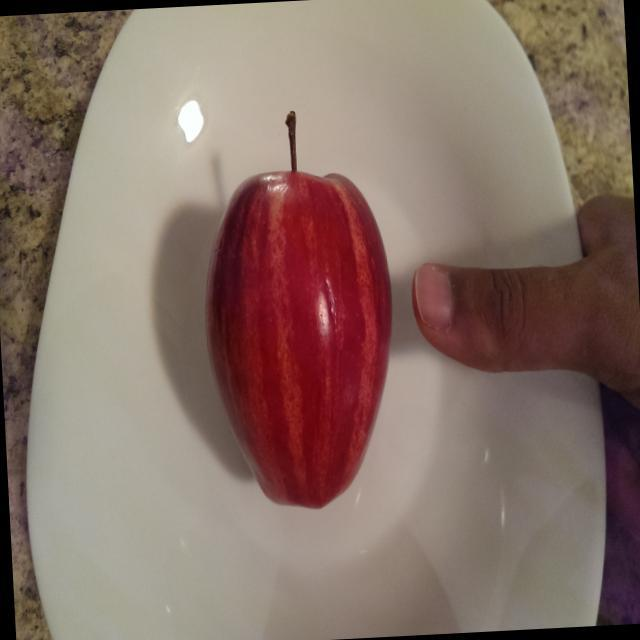Apple: (184, 93, 410, 520)
Finger: (404, 247, 536, 388)
